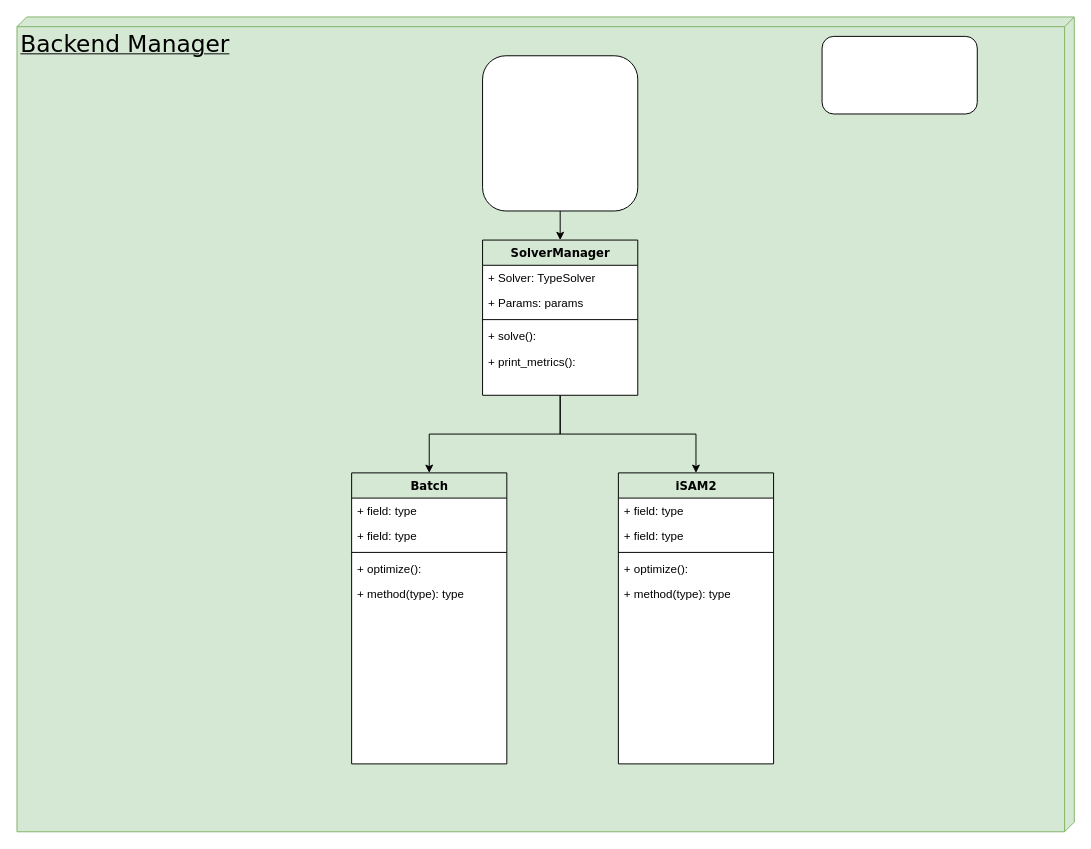
This 1091x849 diagram has some shape labels left out. Each missing label, with the centre of its shape:
"Communication Interface" goes at point (899, 74).
"Solver Manager (create different solvers for non-linear optimization problem)" goes at point (560, 133).
